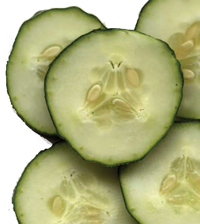cucumber: (41, 26, 184, 165), (5, 5, 110, 144), (12, 140, 139, 223), (132, 0, 199, 123), (121, 121, 198, 223)
